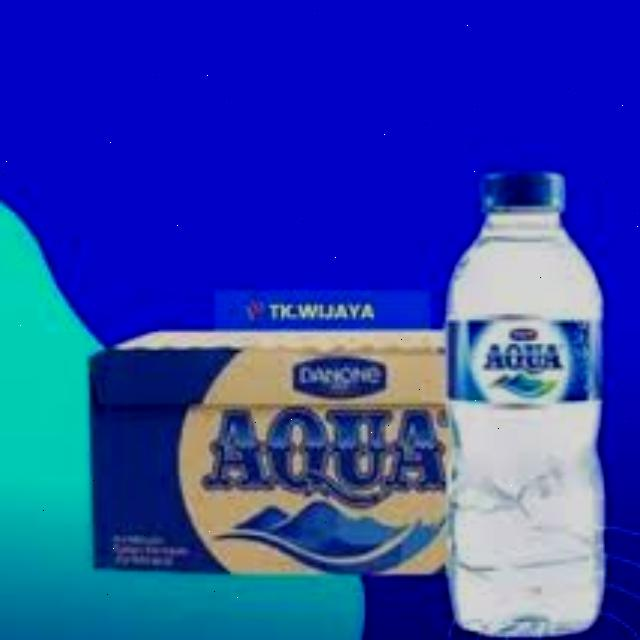trash: (439, 161, 606, 640)
